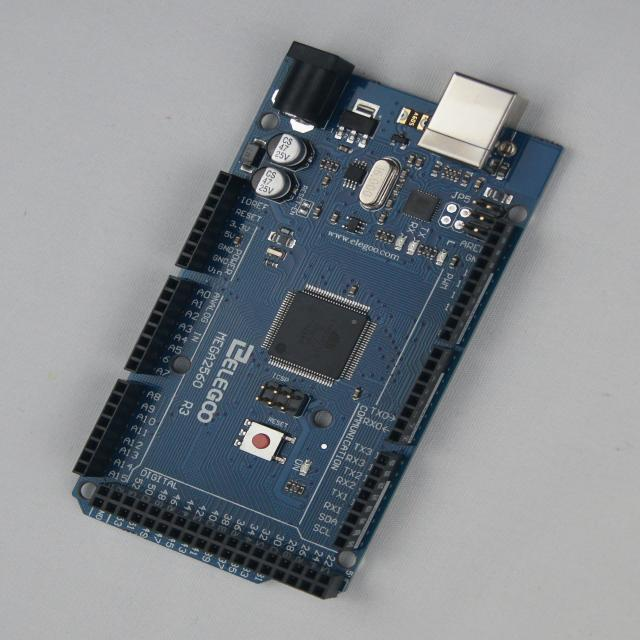Arduino Mega 2560 -Blue-: (74, 43, 562, 600)
